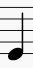E: (6, 3, 26, 61)
